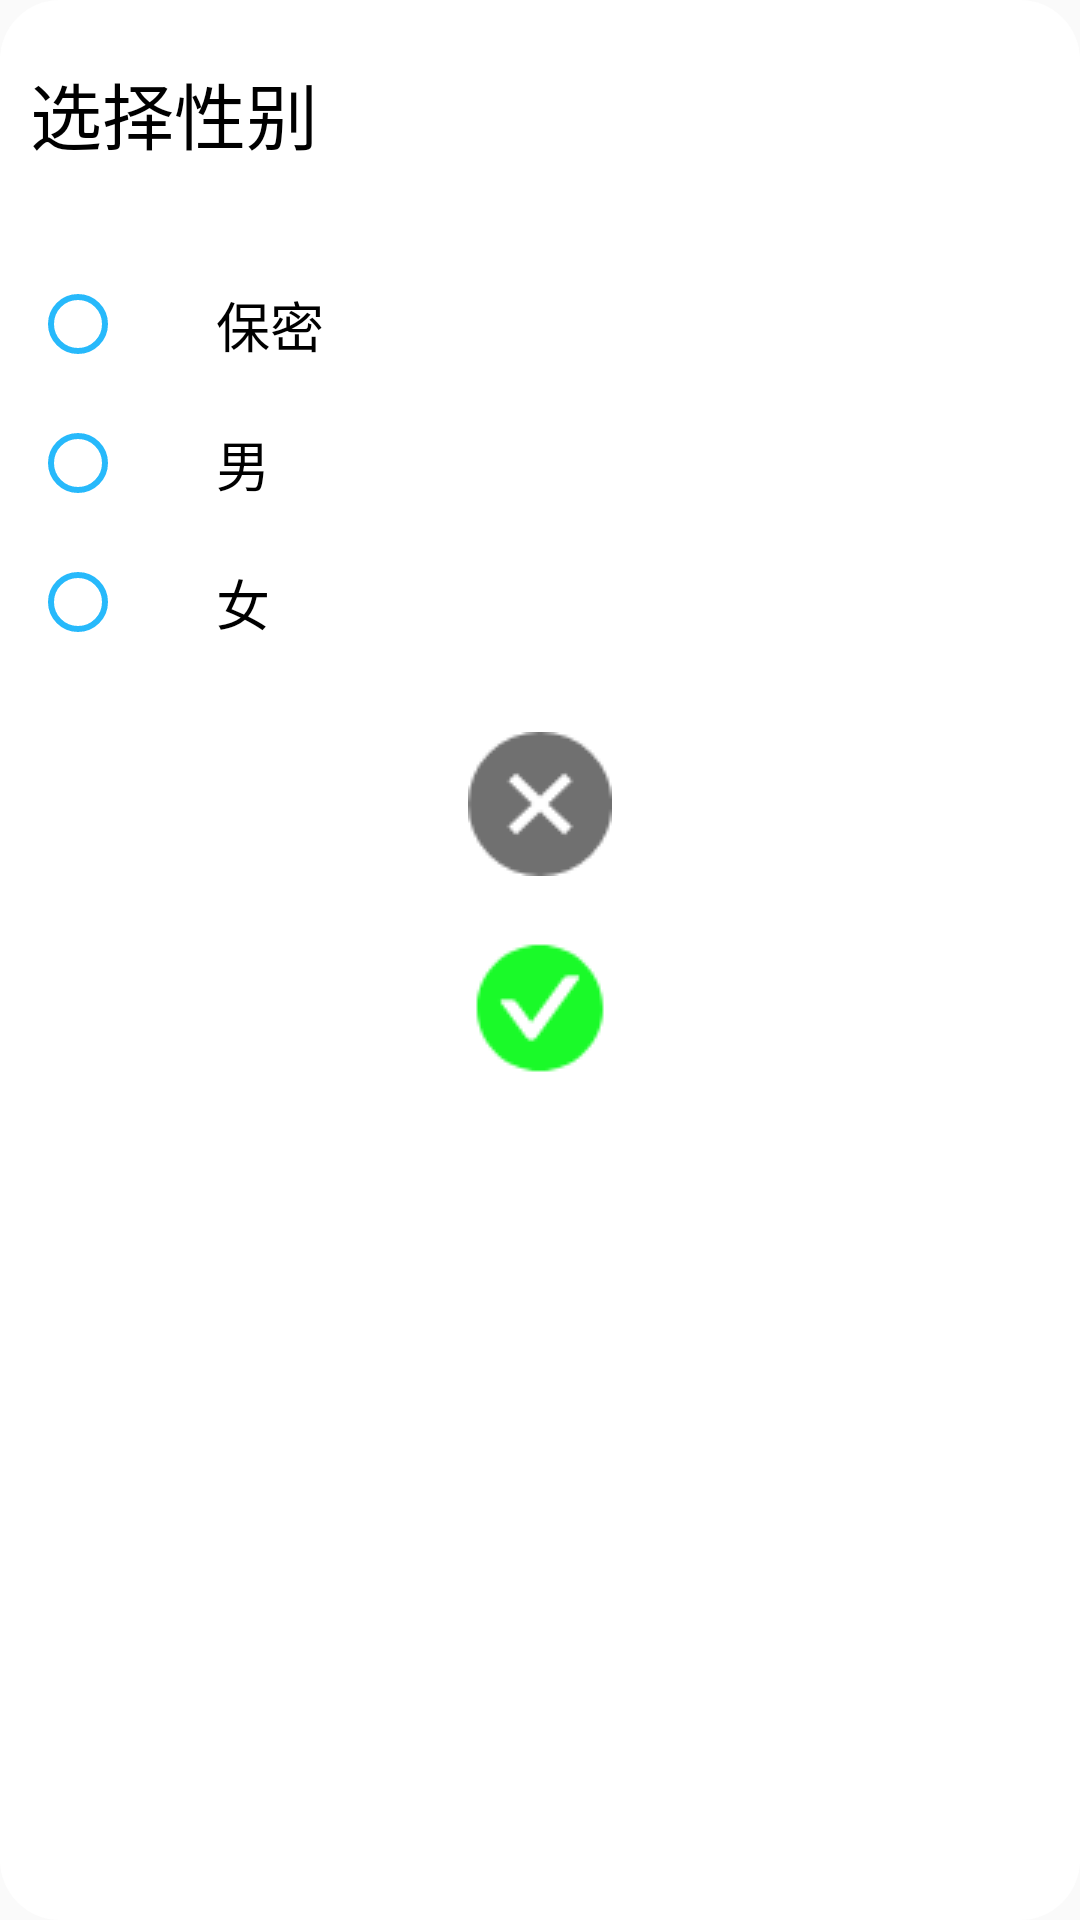

Icons on this 1080px x 1920px Android screen, each with its box as {"x1": x1, "y1": y1, "x2": x2, "y2": y2}:
check cancel: {"x1": 468, "y1": 732, "x2": 612, "y2": 876}
check confirm: {"x1": 476, "y1": 944, "x2": 604, "y2": 1072}
